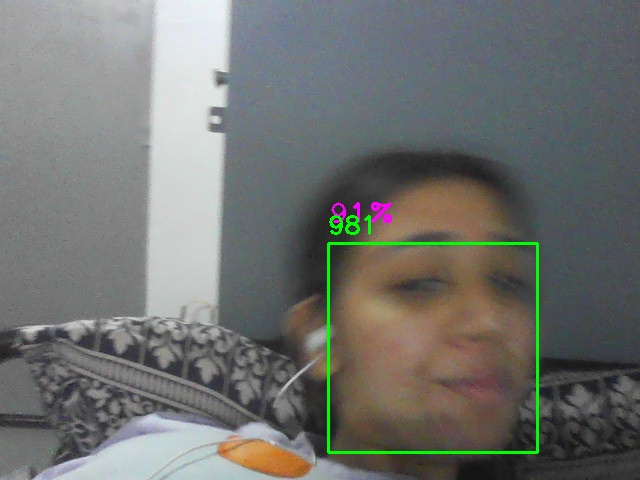real: (328, 243, 538, 453)
